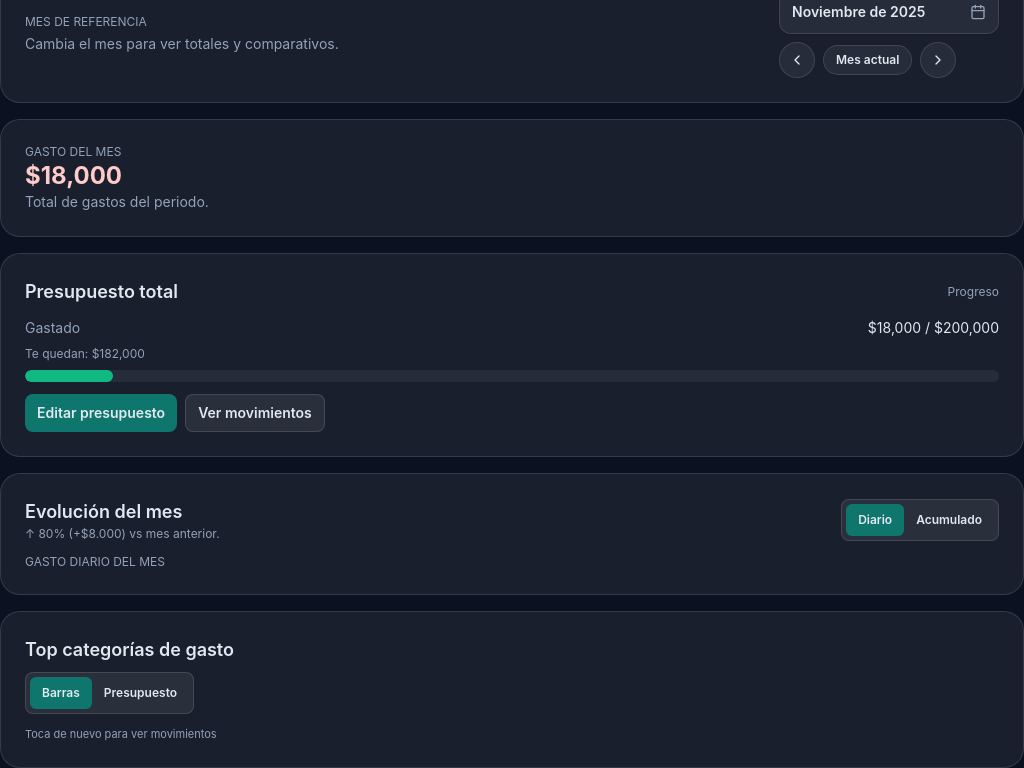
Test: MetricsPage › toggles to Presupuesto mode and unions budget categories (including budget-only)
This screenshot has width=1024, height=768.
(page scrolled)
Click the button "Presupuesto". click: {"x": 140, "y": 693}
box: [92, 677, 189, 709]
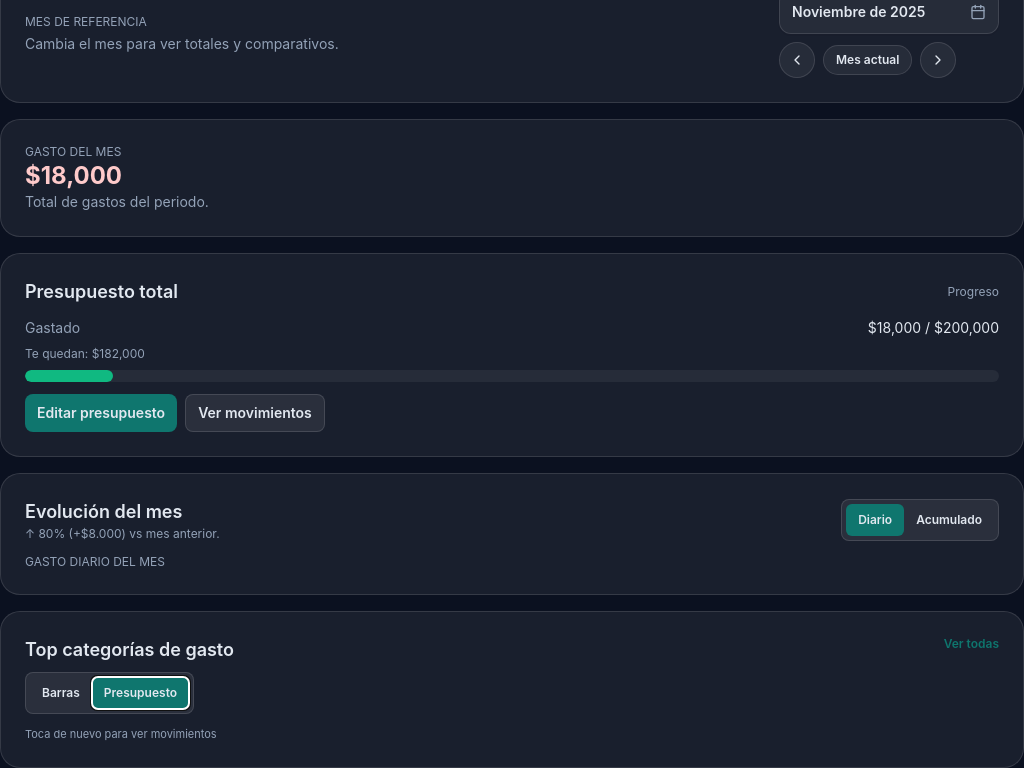
Expected: the button "Presupuesto" is pressed, [92, 677, 189, 709]
Click the button "Ver todas". click: {"x": 971, "y": 644}
box: [944, 636, 999, 652]
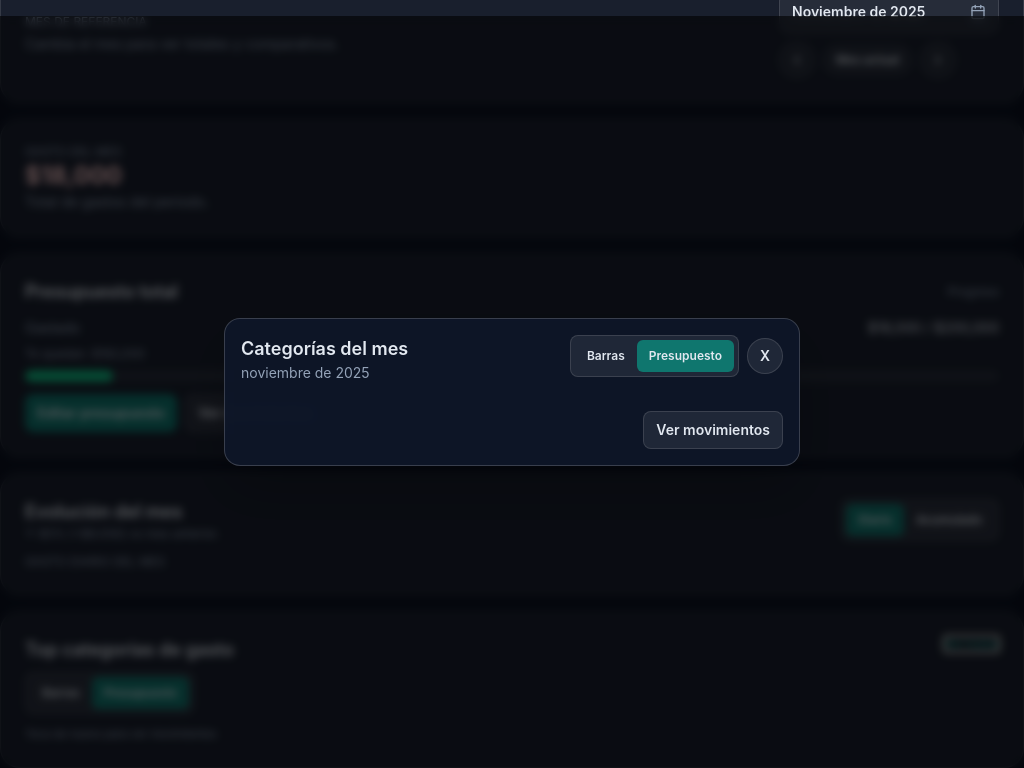
Expected: the dialog "Categorías del mes" is shown, [224, 318, 800, 466]
